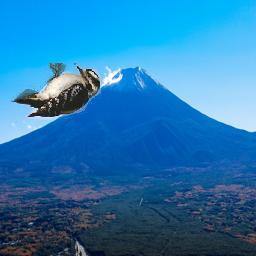Woodpecker: (11, 63, 105, 121)
